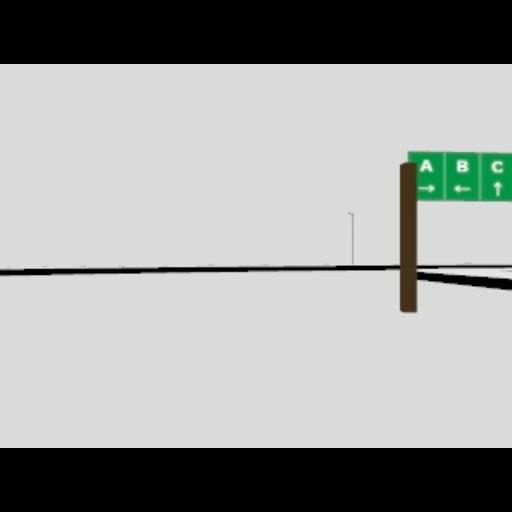A: (420, 158, 432, 172)
B: (456, 158, 468, 172)
C: (490, 160, 502, 172)
Left: (452, 184, 470, 192)
Right: (417, 184, 435, 192)
Straight: (493, 181, 501, 195)
